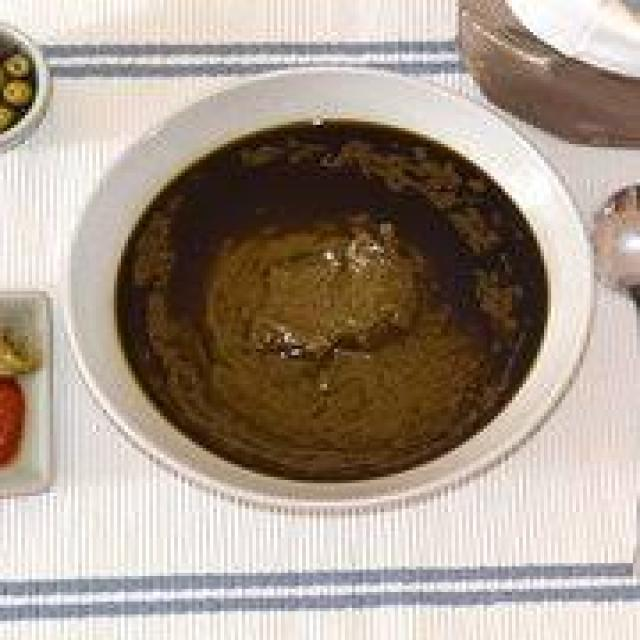Melloukhia: (110, 104, 559, 461)
